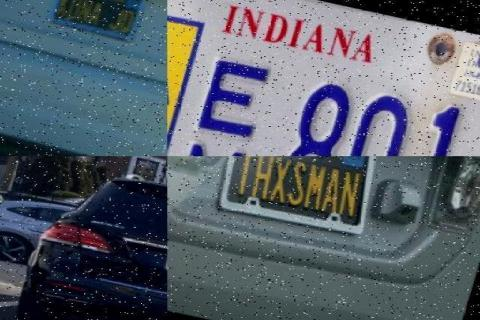LicensePlate: (167, 40, 480, 156), (204, 156, 390, 236), (48, 0, 148, 38)
